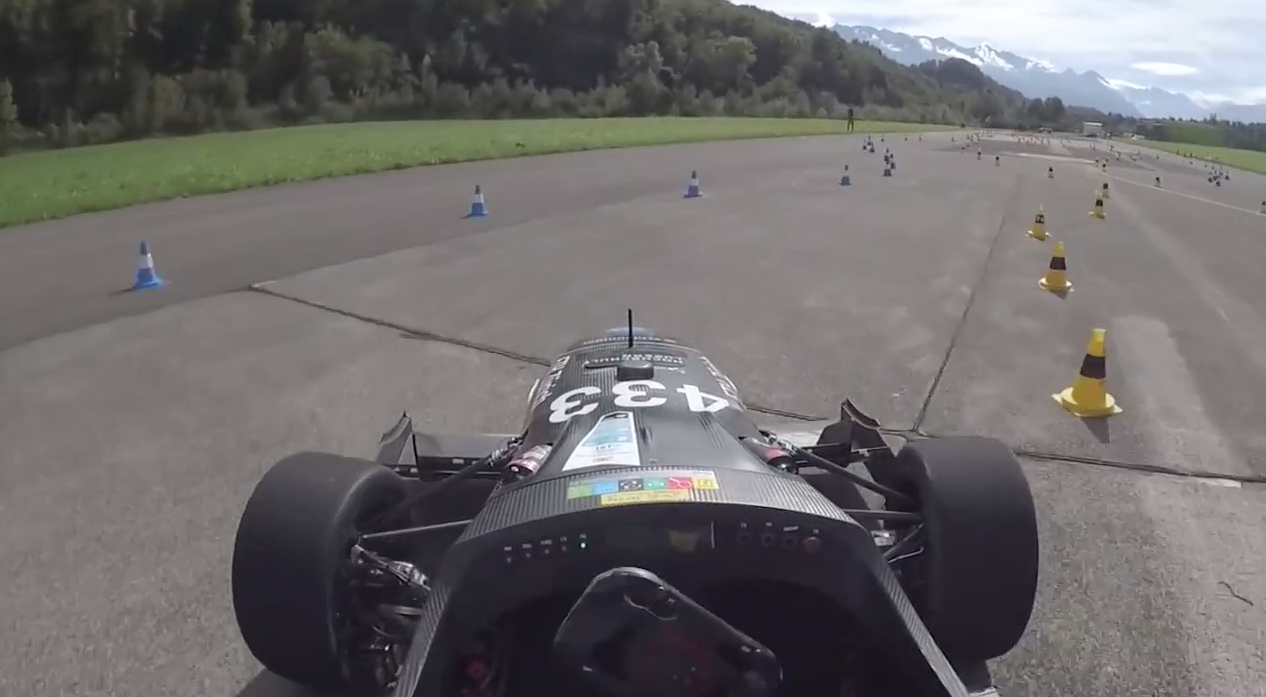lcone: (124, 234, 169, 293), (461, 178, 494, 222), (680, 166, 708, 202)
rcone: (1046, 323, 1126, 425), (1035, 237, 1074, 297), (1023, 201, 1055, 242)
